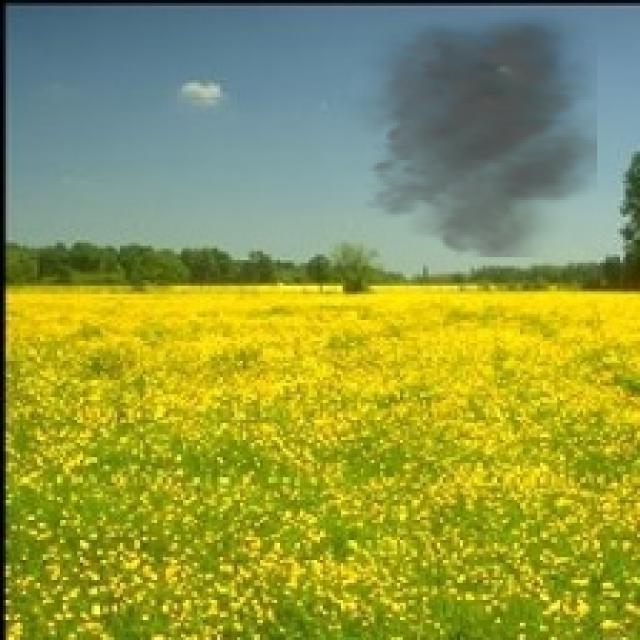Smoke: (340, 6, 597, 258)
